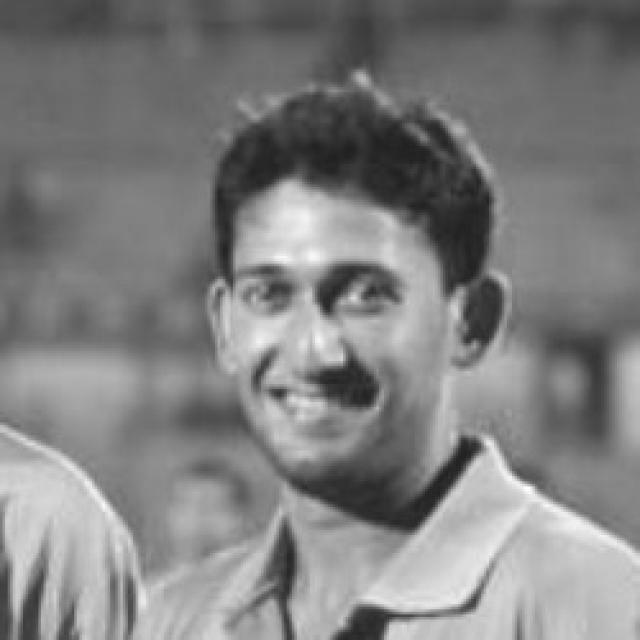real: (227, 189, 461, 491), (236, 264, 419, 330)
